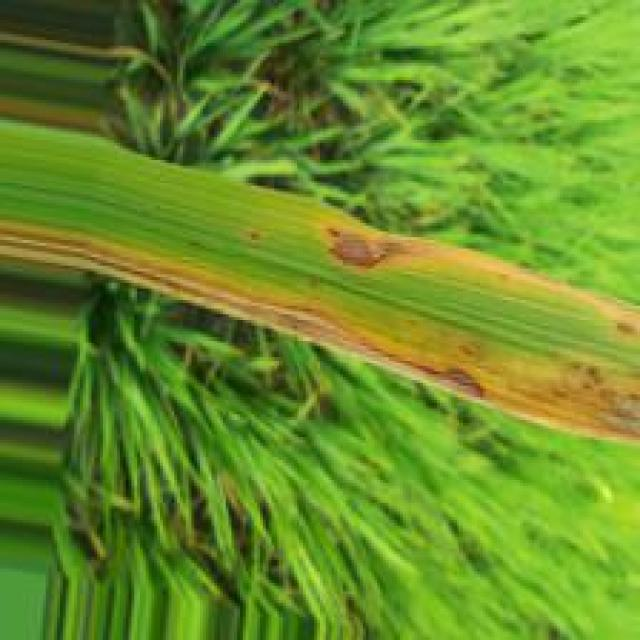Leaf_Blast: (0, 219, 491, 404), (315, 222, 530, 282)
